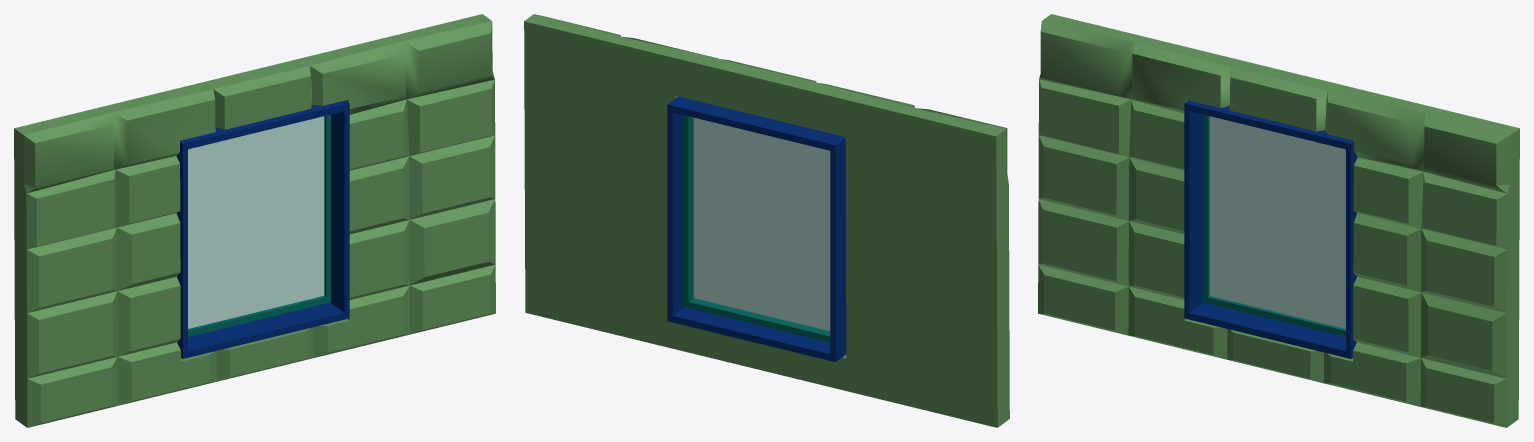
The model's file is window_animated2_.fbx.
The picture shows the model from 3 angles, left to right: view 1: azimuth 30°, elevation 25°; view 2: azimuth 150°, elevation 25°; view 3: azimuth 330°, elevation 25°; orthographic projection.
Parts seen in each view (by area): view 1: wall, crystal, window_frame, window_; view 2: wall, crystal, window_frame, window_; view 3: wall, crystal, window_frame, window_.
Boxes of the visible parts, bbox=[...] form: wall: bbox=[14, 14, 495, 427]; crystal: bbox=[188, 116, 324, 328]; window_frame: bbox=[176, 100, 349, 358]; window_: bbox=[188, 114, 330, 336]; wall: bbox=[524, 14, 1009, 427]; crystal: bbox=[693, 117, 830, 331]; window_frame: bbox=[667, 96, 846, 362]; window_: bbox=[683, 115, 830, 342]; wall: bbox=[1038, 14, 1519, 427]; crystal: bbox=[1209, 116, 1345, 328]; window_frame: bbox=[1184, 100, 1357, 358]; window_: bbox=[1203, 114, 1345, 336].
Bounding box in the file's own units: 10.15 × 6 × 1.
